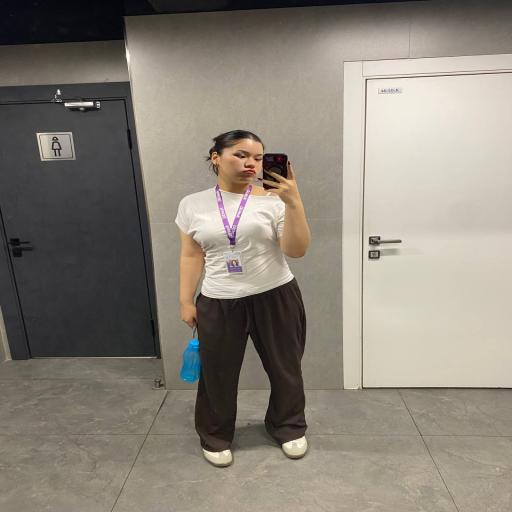bench: (180, 339, 201, 382)
corridor: (362, 65, 511, 387), (0, 82, 160, 359)
laptop: (176, 130, 310, 466)
people: (263, 154, 287, 183)
